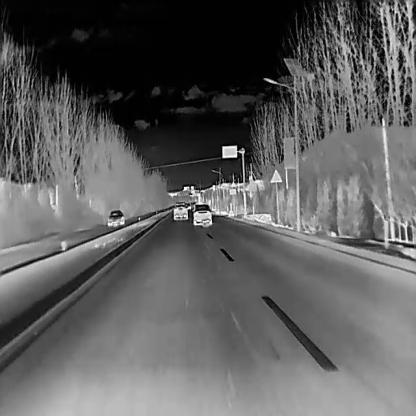car: (193, 203, 211, 226), (107, 209, 124, 226), (173, 202, 188, 220)
